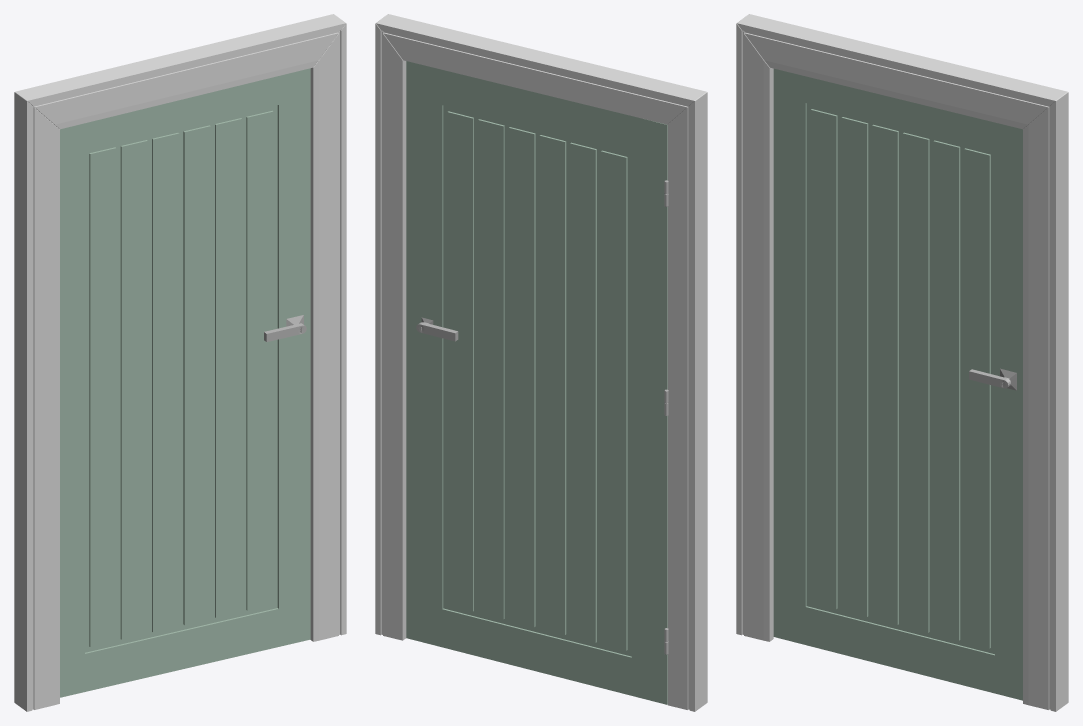
Rendered from Door8.fbx.
3 renders of one model, left to right at view 1: azimuth 30°, elevation 25°; view 2: azimuth 150°, elevation 25°; view 3: azimuth 330°, elevation 25°, orthographic.
Visible parts, largest first — view 1: Cube.011, Cube.012, Cube.013; view 2: Cube.011, Cube.012, Cube.001; view 3: Cube.011, Cube.012, Cube.013.
Boxes of the visible parts, x1,y1,x2,y2 form: Cube.011: (60, 68, 310, 697); Cube.012: (14, 14, 346, 711); Cube.013: (264, 315, 306, 341); Cube.011: (406, 61, 667, 704); Cube.012: (375, 14, 707, 711); Cube.001: (416, 317, 458, 341); Cube.011: (773, 68, 1022, 700); Cube.012: (736, 14, 1068, 711); Cube.013: (969, 368, 1016, 390).
Bounding box in the file's own units: 118 × 215 × 12.39.
